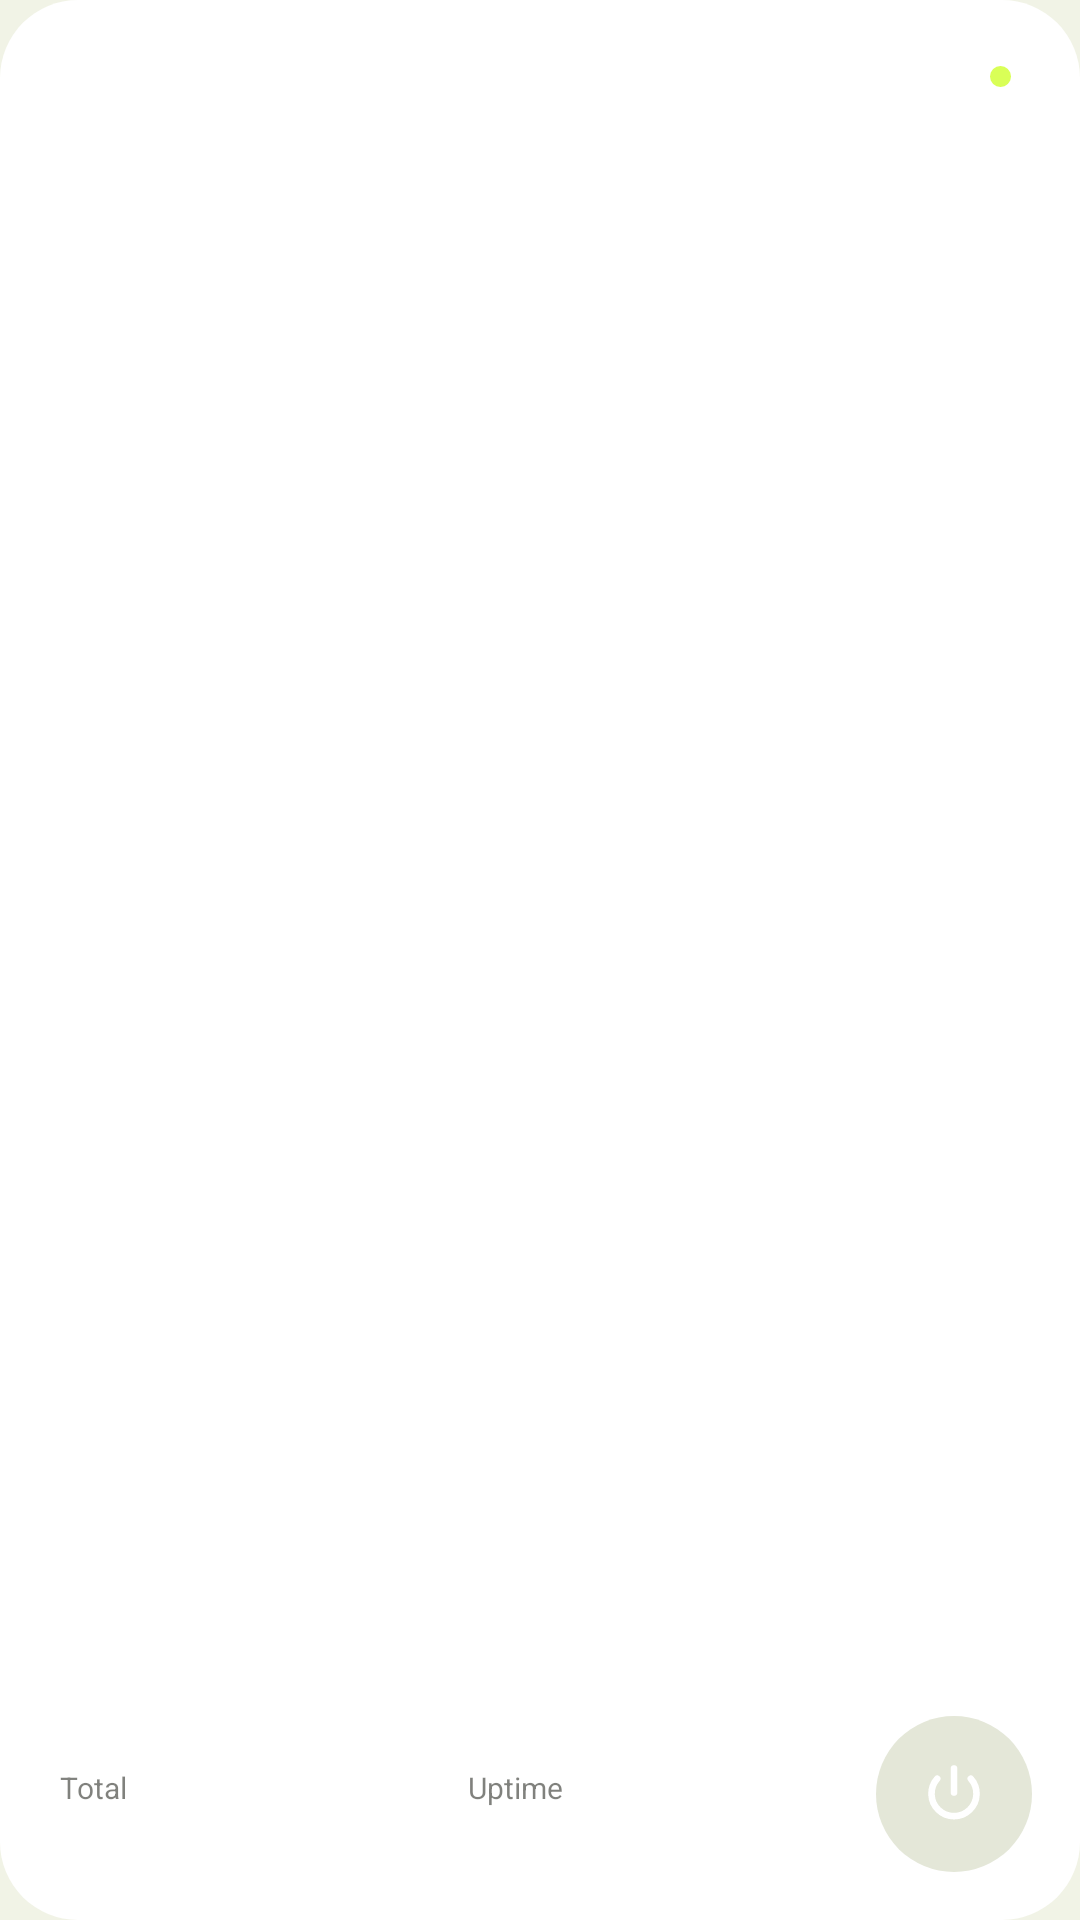

Icons on this 1080w x 1920h Android screen, each with its box as (x1, y1, x2, y2):
Connect or disconnect: (876, 1716, 1032, 1872)
